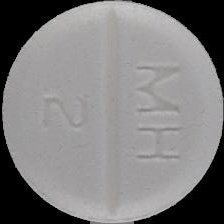54868-5435: (0, 0, 224, 224)
